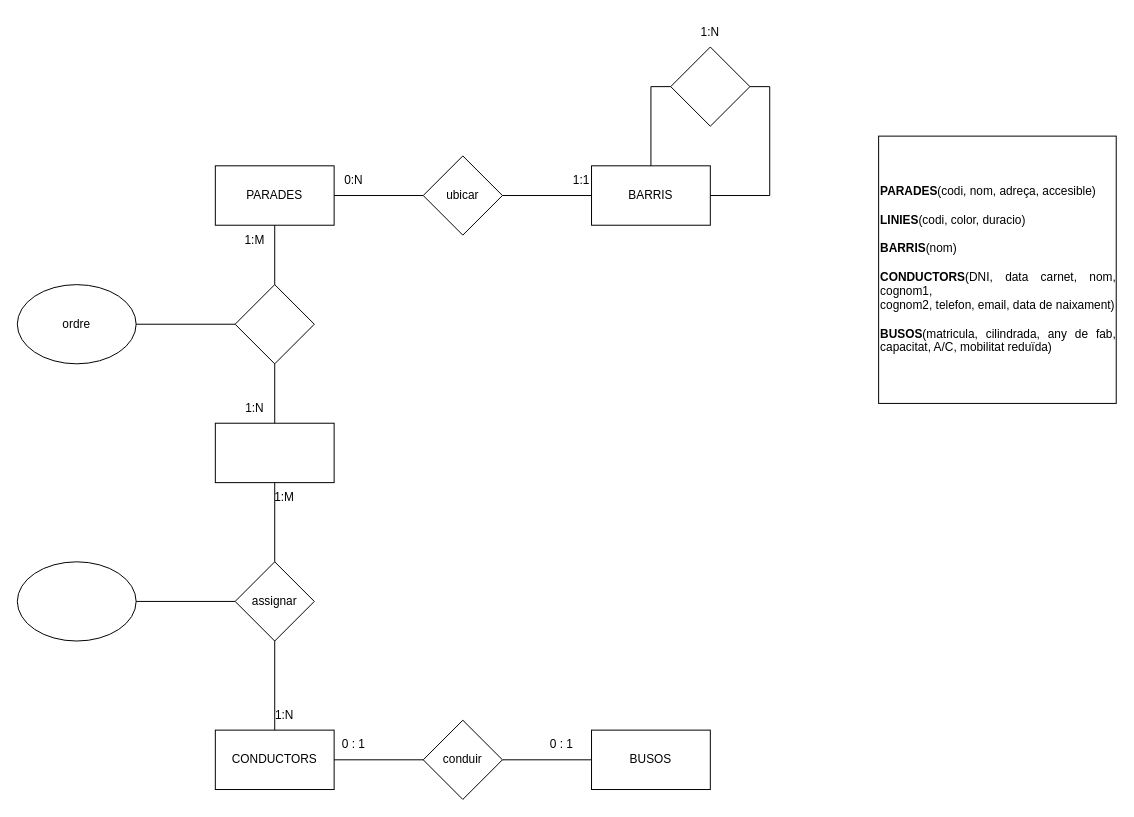
This 1134x817 diagram has some shape labels left out. Here are the shapes that lost their labels. From the top down, the centre of each, then its label:
At point 710,86: "limitar".
At point 274,324: "pertanyer".
At point 274,452: "LINIES".
At point 76,601: "formacio".
